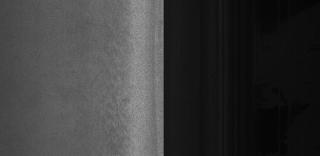silk spot: (90, 36, 138, 126)
